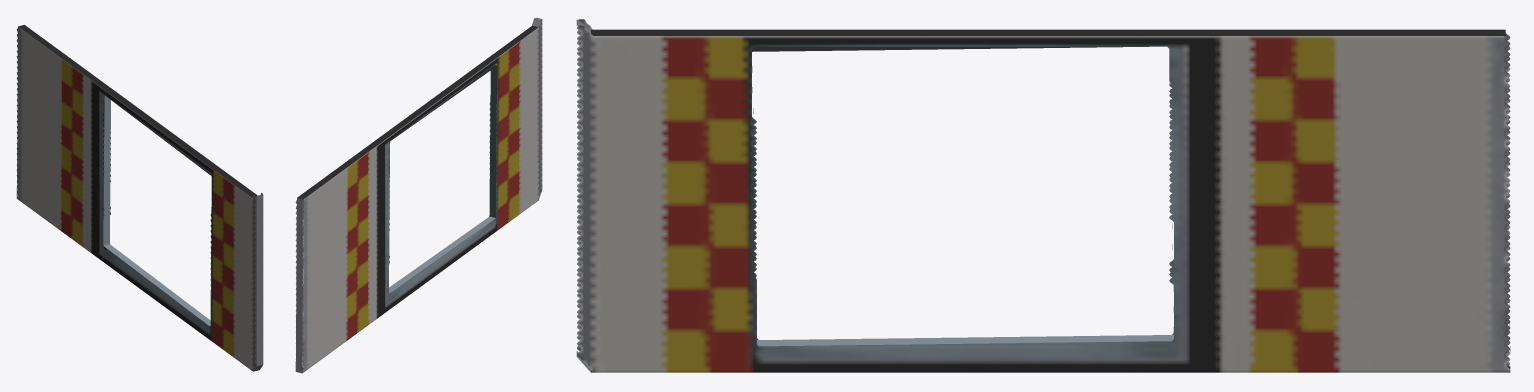
Rendered from pz_native_location_shop_gas2go_01_8_frame.obj.
3 views of the same model, side by side, from view 1: azimuth 30°, elevation 25°; view 2: azimuth 150°, elevation 25°; view 3: azimuth 270°, elevation 25° (orthographic). The views are drawn at different scales.
Parts seen in each view (by area): view 1: pz_native_location_shop_gas2go_01_8_frame; view 2: pz_native_location_shop_gas2go_01_8_frame; view 3: pz_native_location_shop_gas2go_01_8_frame.
Part boxes in pixels (x1,y1,x2,y2): pz_native_location_shop_gas2go_01_8_frame: [16, 25, 263, 371]; pz_native_location_shop_gas2go_01_8_frame: [295, 17, 542, 373]; pz_native_location_shop_gas2go_01_8_frame: [576, 19, 1510, 372].
Size of the model in its own units: 0.04 by 1.06 by 2.55.
Materials: 1 (1 with a texture image).
